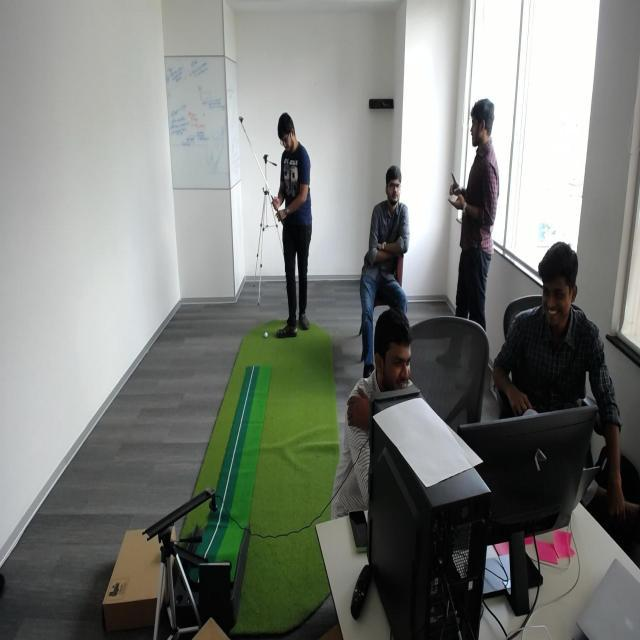ClubHead: (236, 112, 246, 136)
GolfBall: (260, 327, 273, 340)
